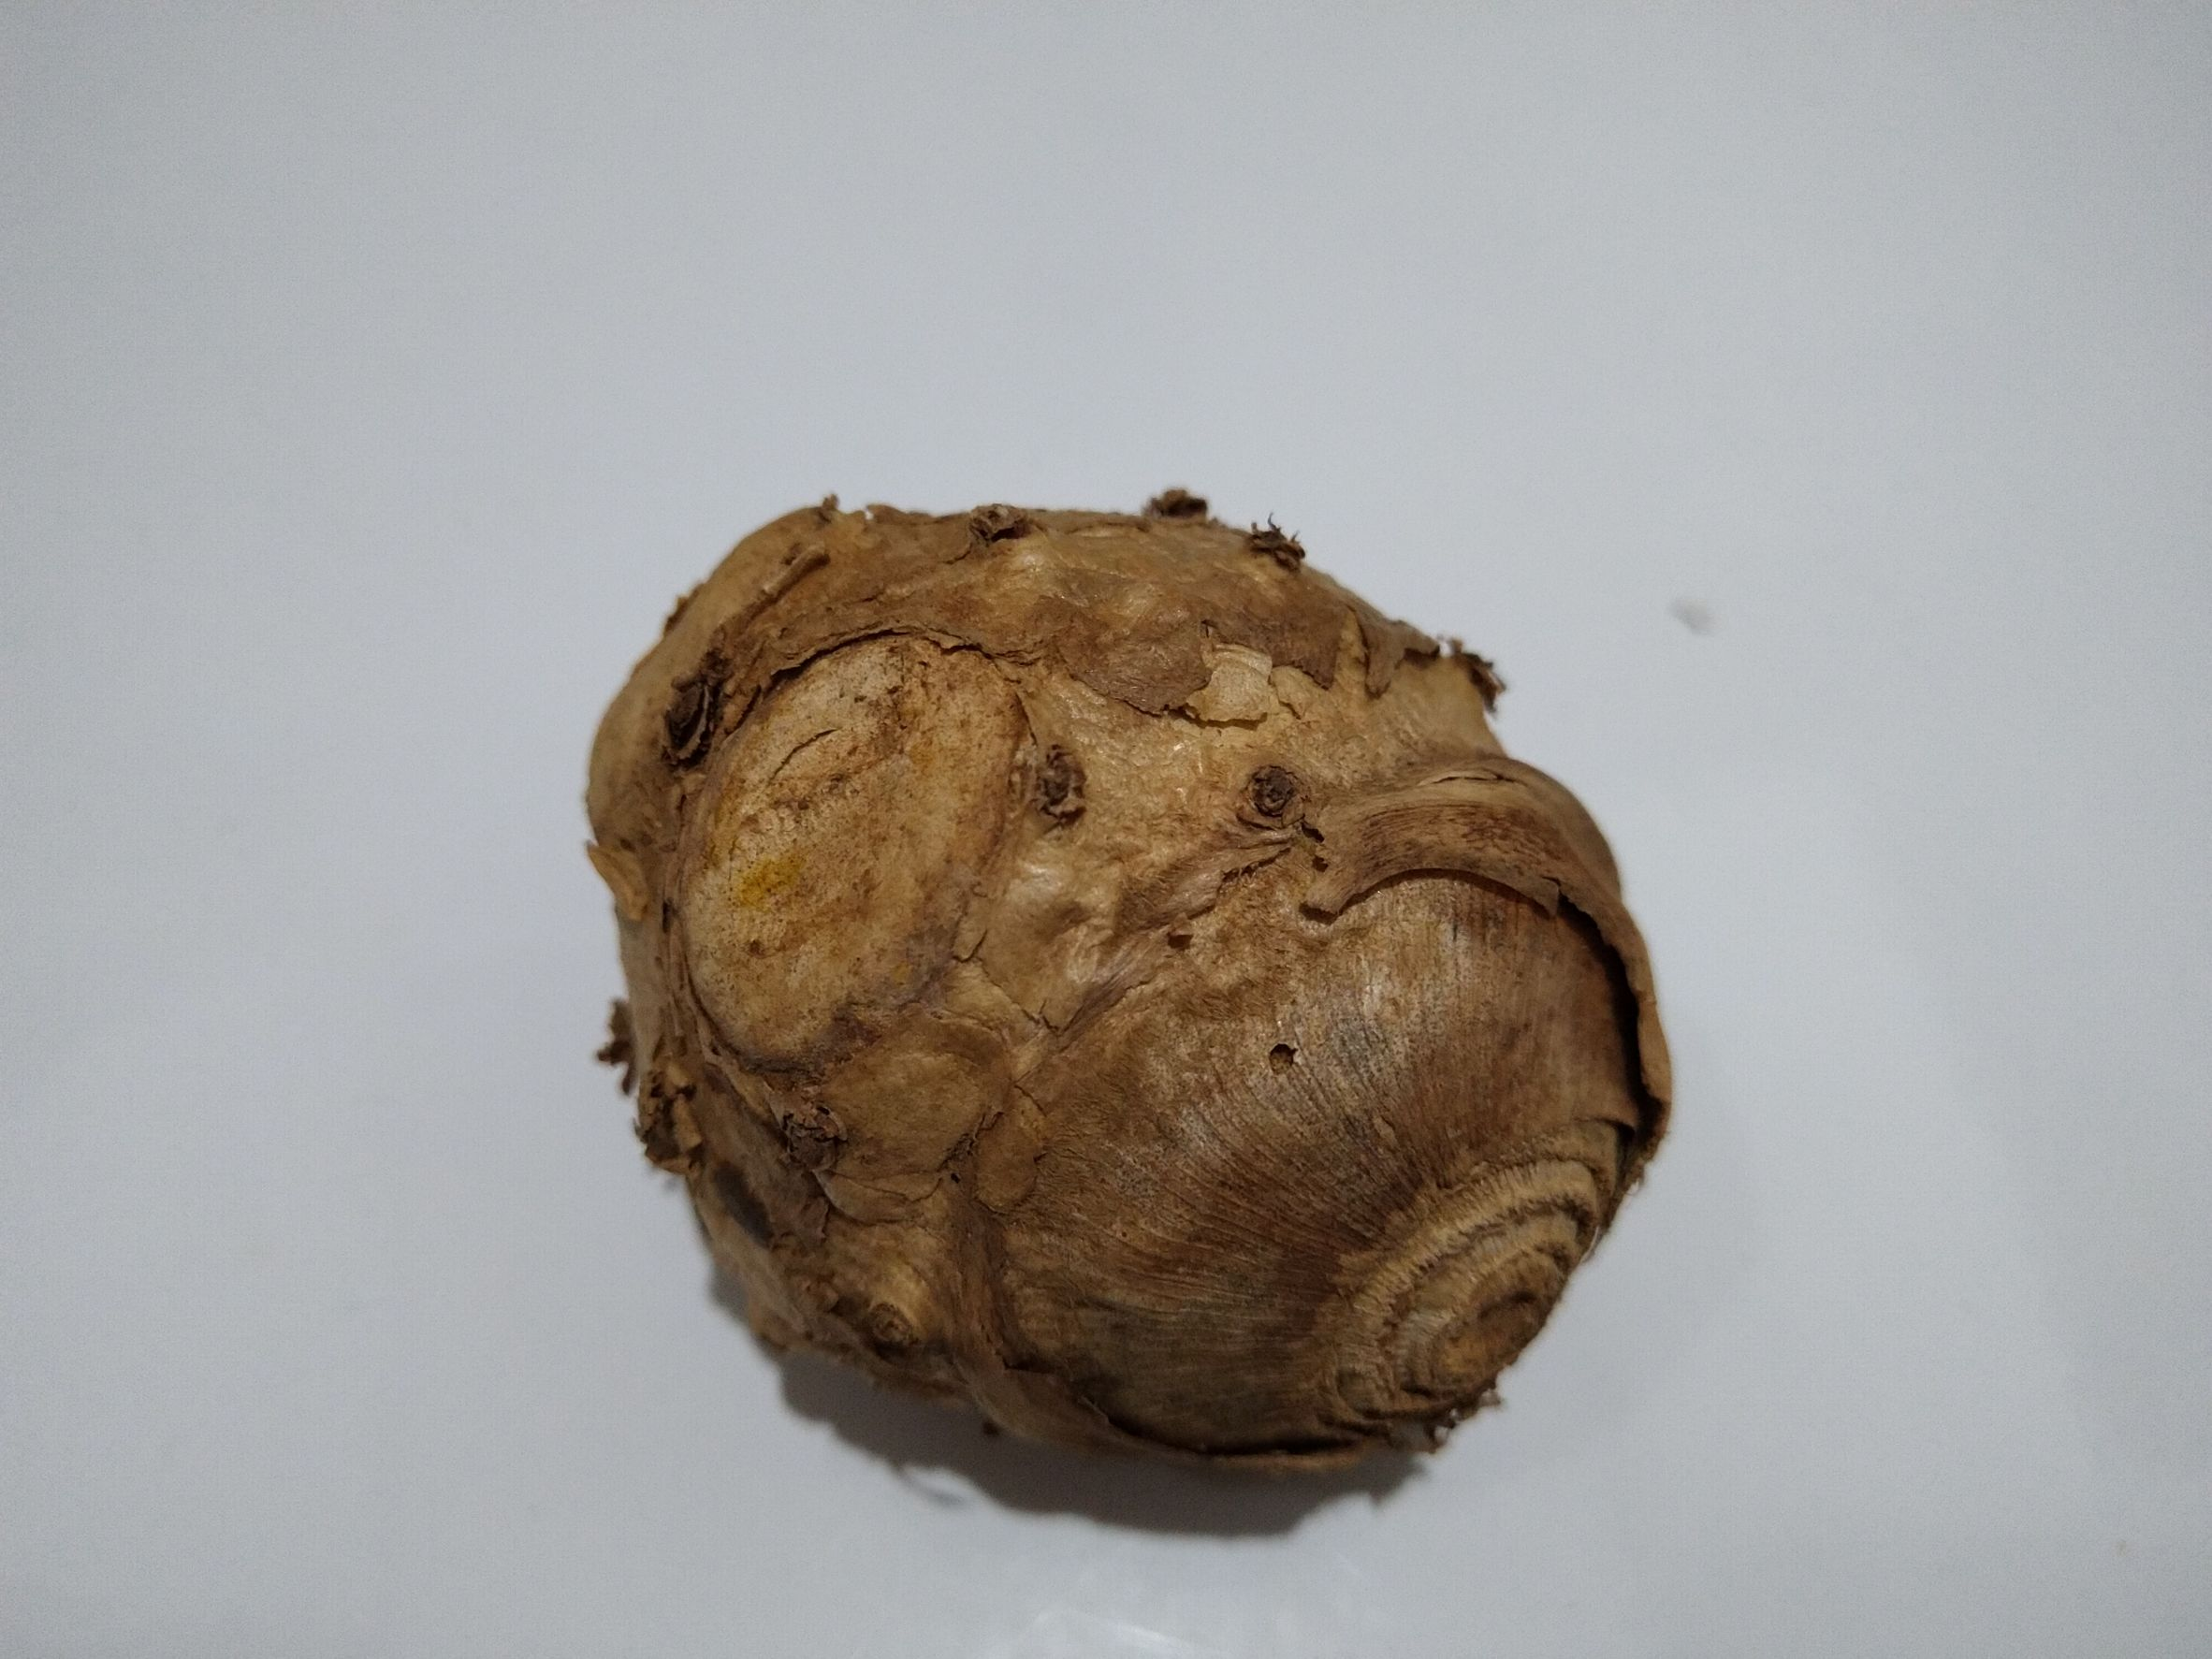Temulawak: (568, 488, 1681, 1488)
